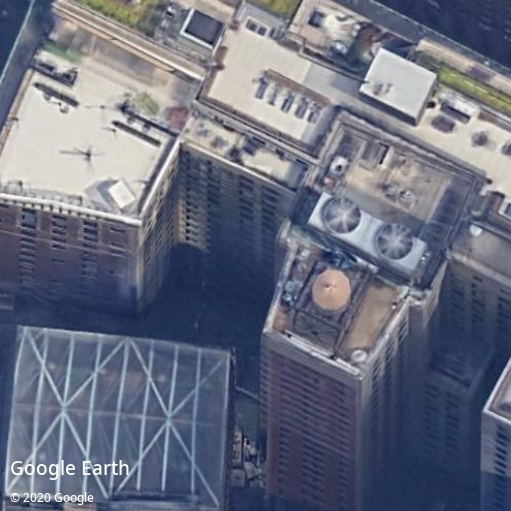Vent: (376, 222, 415, 260), (324, 197, 361, 234)
